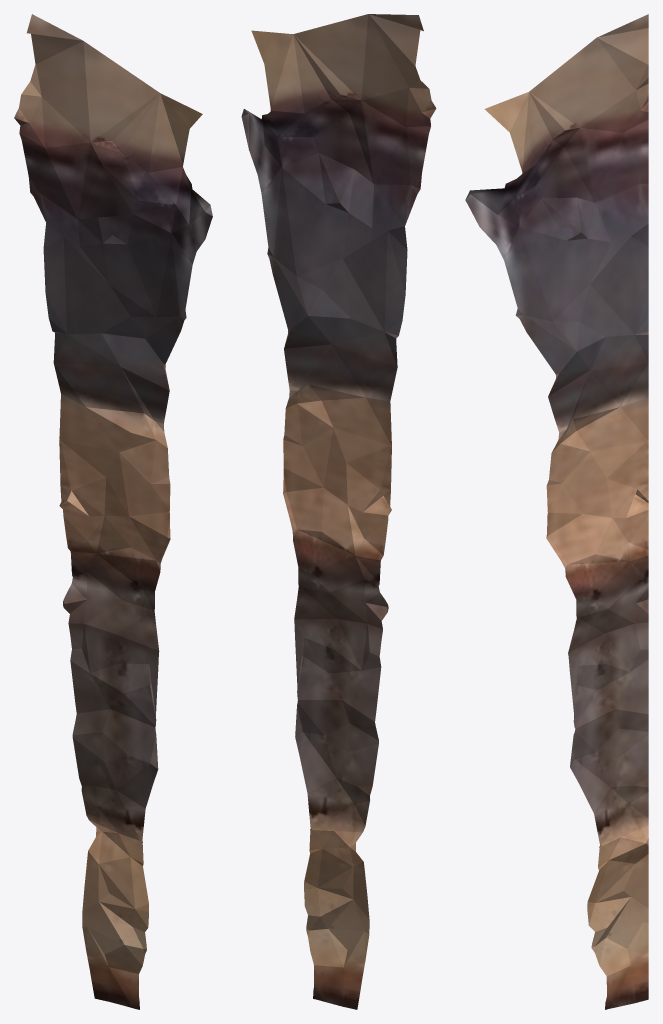
3 renders of one model, left to right at view 1: azimuth 30°, elevation 25°; view 2: azimuth 210°, elevation 25°; view 3: azimuth 270°, elevation 25°, orthographic. The views are drawn at different scales.
Size of the model in its own units: 0.7681 by 7.12 by 1.24.
Materials: 1 (1 with a texture image).
